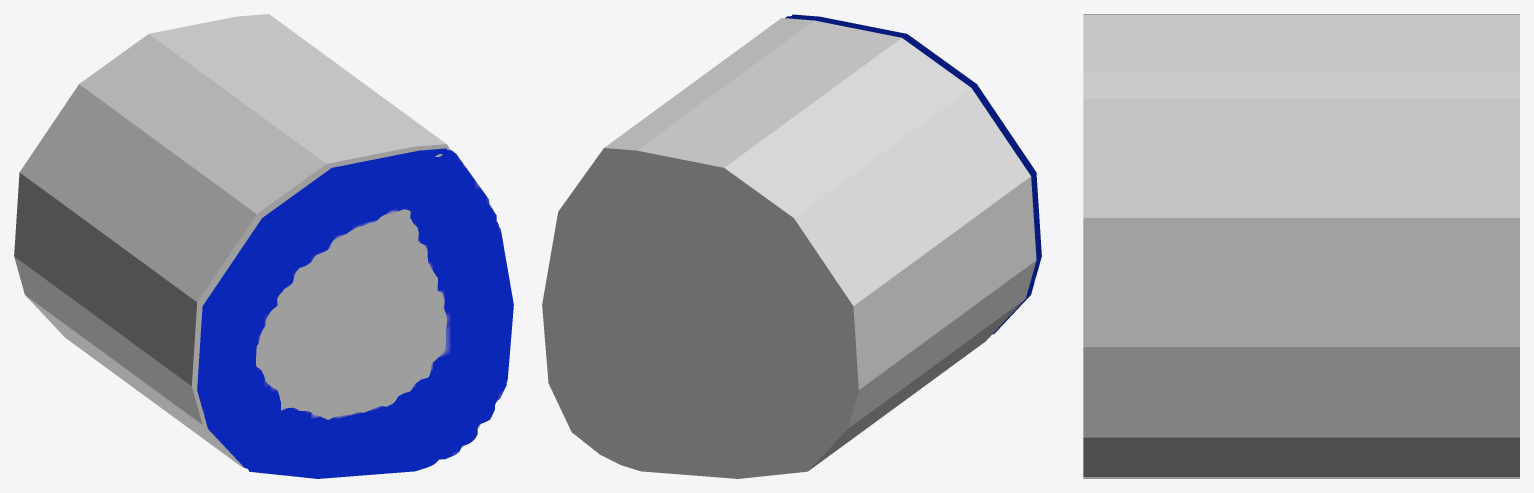
The picture shows the model from 3 angles, left to right: view 1: azimuth 30°, elevation 25°; view 2: azimuth 150°, elevation 25°; view 3: azimuth 270°, elevation 25°; orthographic projection. The views are drawn at different scales.
Visible parts, largest first — view 1: In_10_0, In_10_1; view 2: In_10_0, In_10_1; view 3: In_10_0.
Part boxes in pixels (left/top/right/bottom): In_10_0: left=14, top=14, right=492, bottom=467; In_10_1: left=197, top=148, right=513, bottom=478; In_10_0: left=542, top=18, right=1036, bottom=478; In_10_1: left=785, top=14, right=1041, bottom=337; In_10_0: left=1083, top=14, right=1519, bottom=478.
Bounding box in the file's own units: 0.5146 × 0.5027 × 0.515.
Materials: 2 (1 with a texture image).
